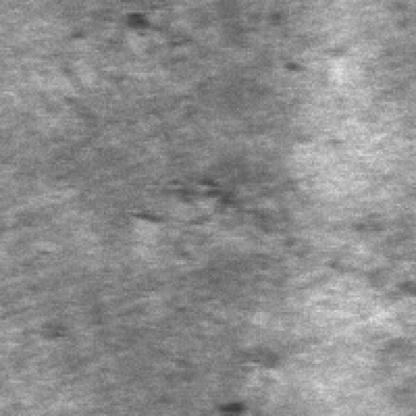rolled-in_scale: (131, 164, 299, 272), (46, 15, 171, 100)
